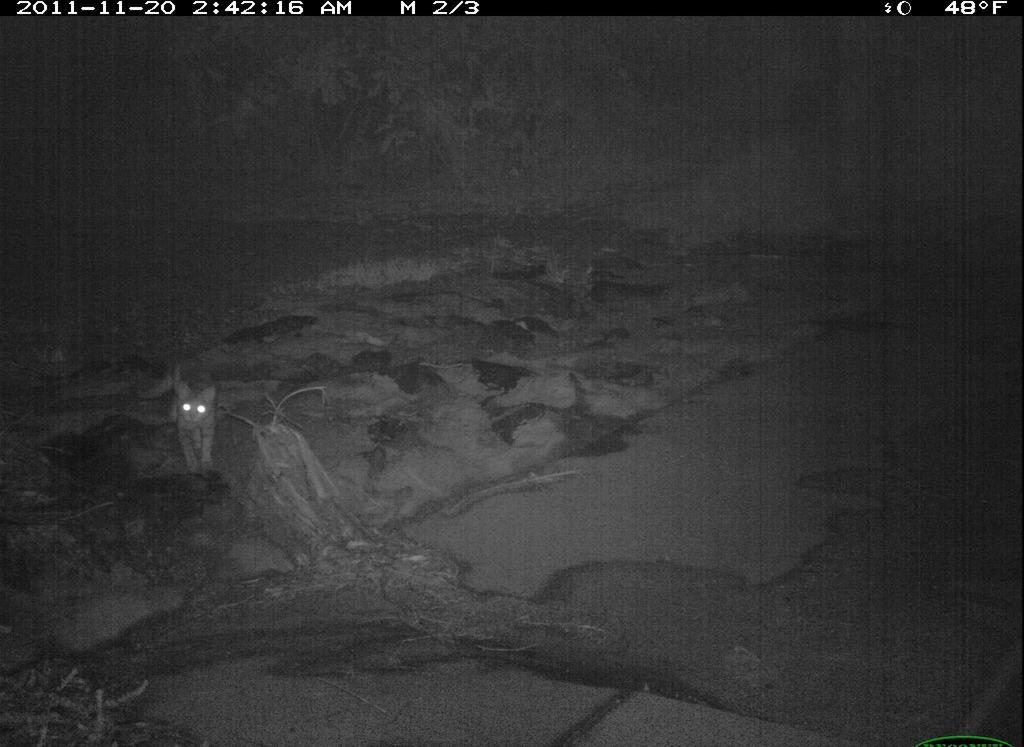cat: (157, 373, 226, 475)
